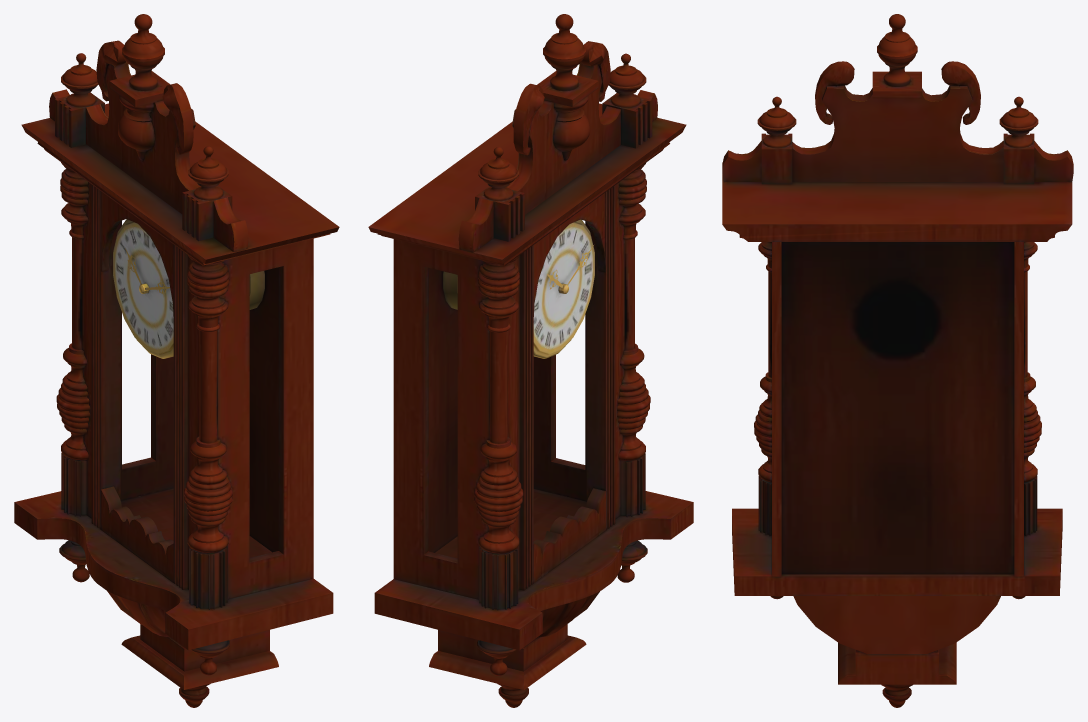
File: antiqueClock.glb
3 views of the same model, side by side, from view 1: azimuth 30°, elevation 25°; view 2: azimuth 150°, elevation 25°; view 3: azimuth 270°, elevation 25° (orthographic). The views are drawn at different scales.
Parts seen in each view (by area): view 1: Object_2; view 2: Object_2; view 3: Object_2.
Boxes of the visible parts, x1,y1,x2,y2 form: Object_2: (14,14,339,707); Object_2: (368,14,693,707); Object_2: (722,14,1073,707).
Size of the model in its own units: 288 by 1321 by 629.
1 material, 1 textured.
